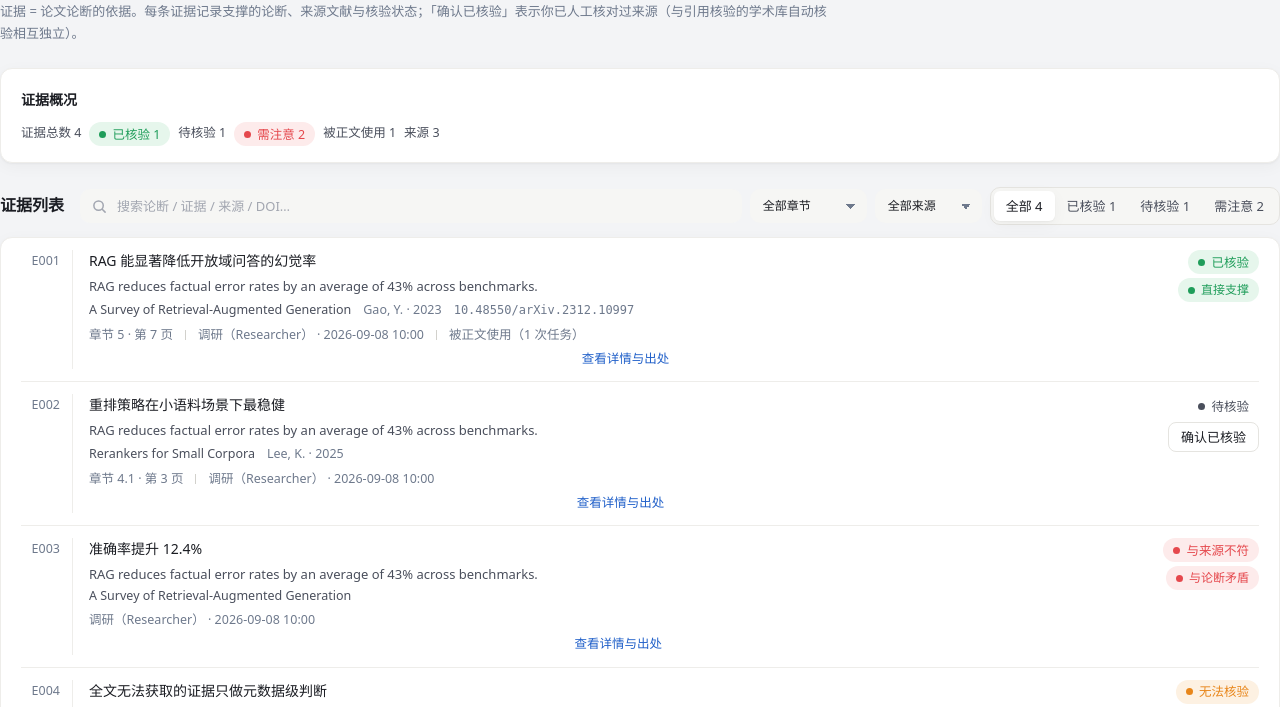
Scenario: 证据工作台 › 详情展开：provenance（文献 / DOI / 页码章节 / 核验方式 / 使用记录）与完整引文
This screenshot has width=1280, height=707.
Click the button with test id "evidence-toggle-detail" below "章节 5 · 第 7 页": (626, 359) top-left (89, 348), bottom-right (1162, 369)
(page scrolled)
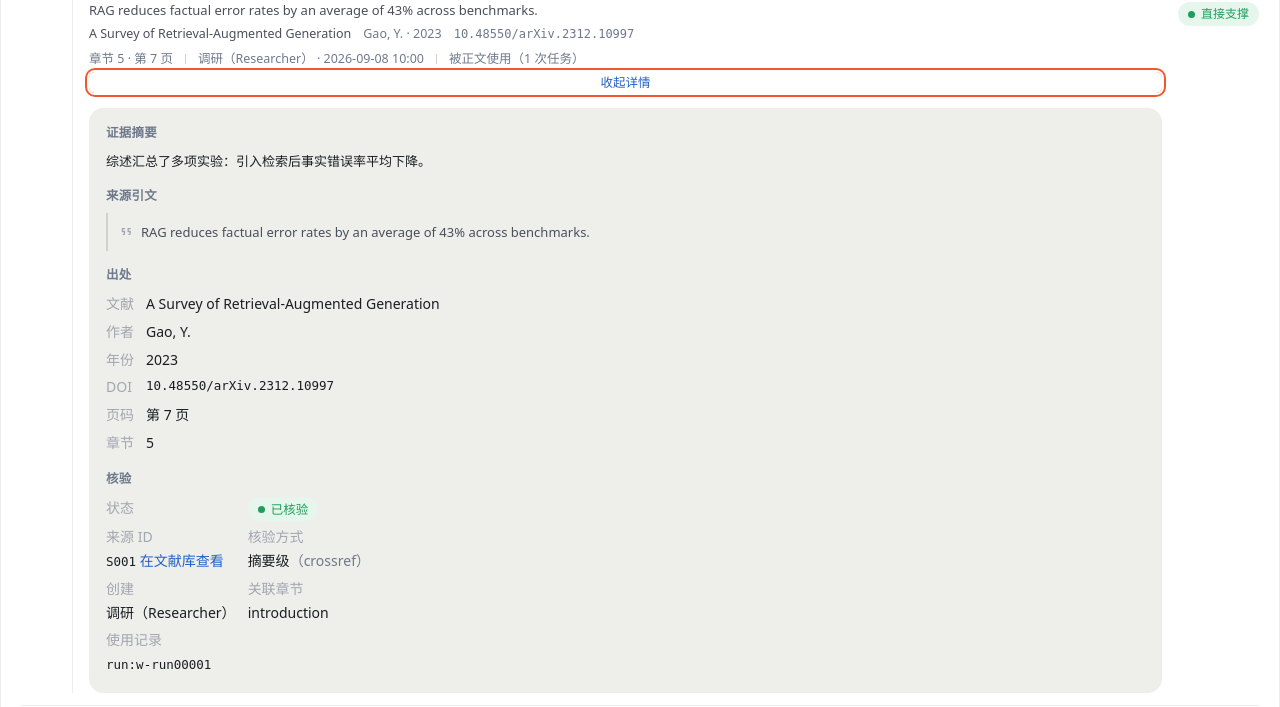
Expected: the element with test id "evidence-detail" shows "A Survey of Retrieval-Augmented Generation", top-left (146, 294), bottom-right (440, 313)
Expected: the element with test id "evidence-detail" shows "10.48550/arXiv.2312.10997", top-left (146, 378), bottom-right (334, 394)
Expected: the element with test id "evidence-detail" shows "第 7 页"
